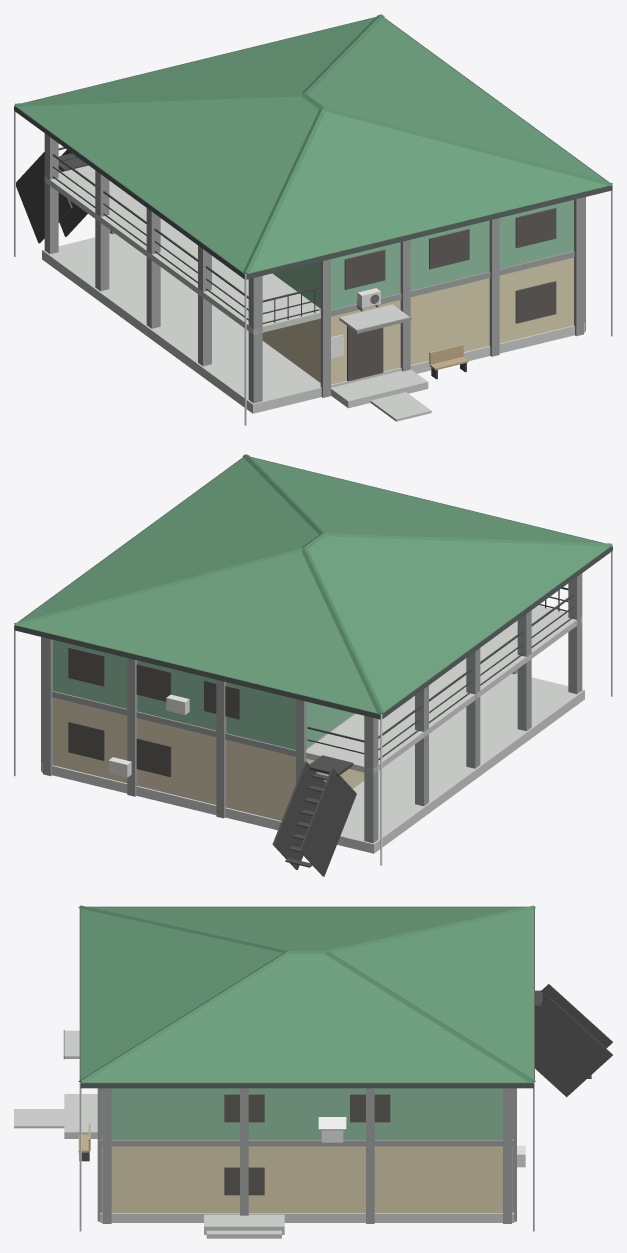
The model's file is dorm.glb.
3 renders of one model, top to bottom at view 1: azimuth 30°, elevation 25°; view 2: azimuth 150°, elevation 25°; view 3: azimuth 270°, elevation 25°, orthographic.
Visible parts, largest first — view 1: DORM_Roof, DORM_DORM_Concrete_Merged, DORM_DORM_ColGrey_Merged, DORM_Body_GF, DORM_Body_2F, DORM_DORM_BronzeFrame_Merged, DORM_DORM_RailBlack_Merged, DORM_DORM_Fascia_Merged, DORM_DORM_RidgeGreen_Merged, DORM_DORM_SoffitWhite_Merged, DORM_DORM_Wood_Merged; view 2: DORM_Roof, DORM_DORM_Concrete_Merged, DORM_DORM_ColGrey_Merged, DORM_Body_GF, DORM_Body_2F, DORM_DORM_RailBlack_Merged, DORM_DORM_BronzeFrame_Merged, DORM_DORM_Fascia_Merged, DORM_DORM_RidgeGreen_Merged, DORM_DORM_SoffitWhite_Merged, DORM_DORM_ACWhite_Merged; view 3: DORM_Roof, DORM_Body_GF, DORM_Body_2F, DORM_DORM_ColGrey_Merged, DORM_DORM_Concrete_Merged, DORM_DORM_RailBlack_Merged, DORM_DORM_Fascia_Merged, DORM_DORM_RidgeGreen_Merged, DORM_DORM_BronzeFrame_Merged, DORM_DORM_SoffitWhite_Merged, DORM_DORM_ACWhite_Merged.
Part boxes in pixels (bbox=[...]): DORM_Roof: bbox=[17, 17, 608, 274]; DORM_DORM_Concrete_Merged: bbox=[42, 165, 584, 421]; DORM_DORM_ColGrey_Merged: bbox=[44, 133, 585, 403]; DORM_Body_GF: bbox=[262, 257, 573, 384]; DORM_Body_2F: bbox=[272, 200, 573, 309]; DORM_DORM_BronzeFrame_Merged: bbox=[344, 208, 556, 381]; DORM_DORM_RailBlack_Merged: bbox=[16, 147, 466, 379]; DORM_DORM_Fascia_Merged: bbox=[14, 17, 612, 279]; DORM_DORM_RidgeGreen_Merged: bbox=[14, 14, 612, 274]; DORM_DORM_SoffitWhite_Merged: bbox=[14, 105, 612, 425]; DORM_DORM_Wood_Merged: bbox=[429, 344, 468, 370]; DORM_Roof: bbox=[18, 457, 609, 712]; DORM_DORM_Concrete_Merged: bbox=[42, 605, 584, 853]; DORM_DORM_ColGrey_Merged: bbox=[41, 573, 582, 843]; DORM_Body_GF: bbox=[53, 697, 364, 820]; DORM_Body_2F: bbox=[53, 640, 354, 749]; DORM_DORM_RailBlack_Merged: bbox=[272, 587, 574, 876]; DORM_DORM_BronzeFrame_Merged: bbox=[68, 647, 239, 776]; DORM_DORM_Fascia_Merged: bbox=[14, 457, 612, 719]; DORM_DORM_RidgeGreen_Merged: bbox=[14, 454, 612, 714]; DORM_DORM_SoffitWhite_Merged: bbox=[14, 545, 612, 865]; DORM_DORM_ACWhite_Merged: bbox=[108, 694, 189, 777]; DORM_Roof: bbox=[80, 907, 533, 1082]; DORM_Body_GF: bbox=[102, 1146, 512, 1212]; DORM_Body_2F: bbox=[102, 1088, 512, 1139]; DORM_DORM_ColGrey_Merged: bbox=[63, 1030, 516, 1223]; DORM_DORM_Concrete_Merged: bbox=[14, 1030, 514, 1238]; DORM_DORM_RailBlack_Merged: bbox=[79, 984, 612, 1161]; DORM_DORM_Fascia_Merged: bbox=[79, 906, 534, 1088]; DORM_DORM_RidgeGreen_Merged: bbox=[78, 905, 535, 1083]; DORM_DORM_BronzeFrame_Merged: bbox=[224, 1094, 390, 1195]; DORM_DORM_SoffitWhite_Merged: bbox=[79, 1082, 534, 1231]; DORM_DORM_ACWhite_Merged: bbox=[321, 1130, 525, 1167].
Size of the model in its own units: 17.3 by 8.82 by 23.79.
